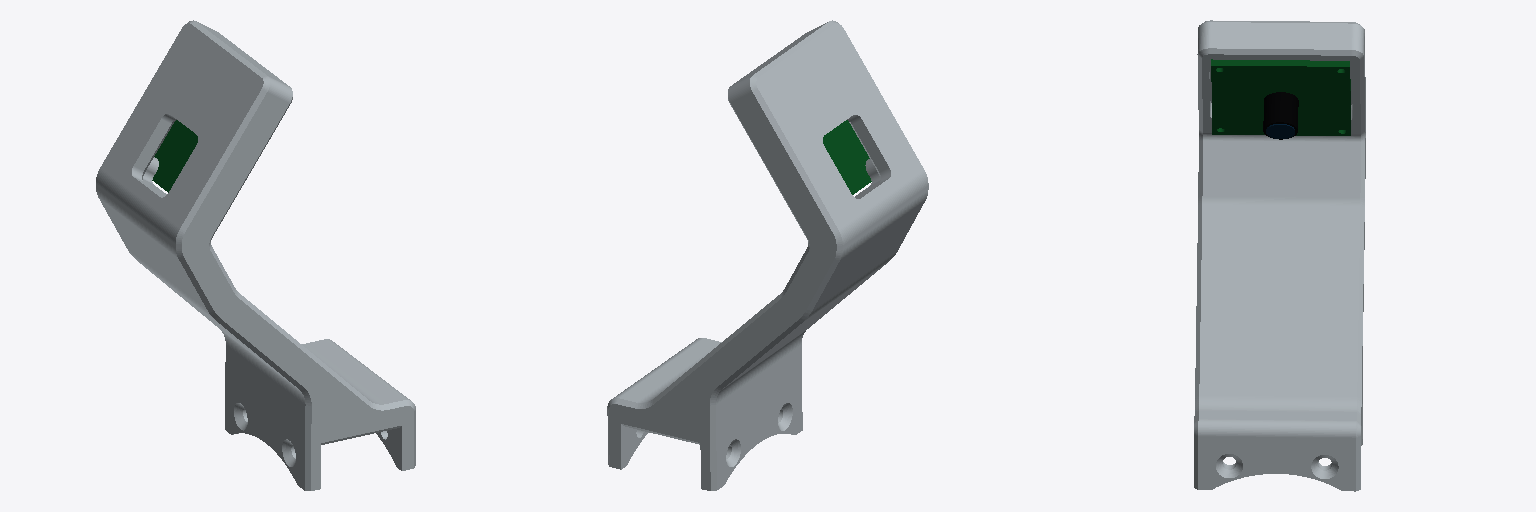
URDF robot description (rebot_wrist_uvc32):
<?xml version="1.0"?>
<!-- Generated by scripts/build-wrist-camera-urdfs.py; see ../README.md. -->
<robot name="rebot_wrist_uvc32">
  <link name="gripper_end" />
  <link name="camera_mount_link">
    <visual>
      <geometry>
        <mesh filename="../meshes/mounts/UVC32_mount.stl" scale="0.001 0.001 0.001" />
      </geometry>
      <material name="camera_mount_link_uvc32_1">
        <color rgba="0.7 0.73 0.75 1" />
      </material>
    </visual>
  </link>
  <joint name="gripper_to_mount" type="fixed">
    <parent link="gripper_end" />
    <child link="camera_mount_link" />
    <origin rpy="1.5827 0.0024 1.5515" xyz="-0.0940591902018 -0.000253569288831 0.0299718222073" />
  </joint>
  <link name="camera_link">
    <visual>
      <geometry>
        <mesh filename="../meshes/uvc32/board.stl" scale="0.001 0.001 0.001" />
      </geometry>
      <material name="camera_link_uvc32_1">
        <color rgba="0.06 0.32 0.14 1" />
      </material>
    </visual>
    <visual>
      <geometry>
        <mesh filename="../meshes/uvc32/lens.stl" scale="0.001 0.001 0.001" />
      </geometry>
      <material name="camera_link_uvc32_2">
        <color rgba="0.035 0.035 0.04 1" />
      </material>
    </visual>
    <visual>
      <geometry>
        <mesh filename="../meshes/uvc32/glass.stl" scale="0.001 0.001 0.001" />
      </geometry>
      <material name="camera_link_uvc32_3">
        <color rgba="0.04 0.14 0.22 1" />
      </material>
    </visual>
  </link>
  <joint name="mount_to_camera" type="fixed">
    <parent link="camera_mount_link" />
    <child link="camera_link" />
    <origin rpy="-0.60145585568 0 3.14159265359" xyz="1.4555e-06 0.07507025725 -0.0274030491" />
  </joint>
  <link name="camera_color_frame" />
  <joint name="camera_color_joint" type="fixed">
    <parent link="camera_link" />
    <child link="camera_color_frame" />
    <origin rpy="0 0 0" xyz="0 0 0.0099" />
  </joint>
  <link name="camera_color_optical_frame" />
  <joint name="camera_color_optical_joint" type="fixed">
    <parent link="camera_color_frame" />
    <child link="camera_color_optical_frame" />
    <origin rpy="0 0 0" xyz="0 0 0" />
  </joint>
</robot>

--- Render facts (derived) ---
3 views of the same robot in one strip: view 1: azimuth 30°, elevation 25°; view 2: azimuth 150°, elevation 25°; view 3: azimuth 270°, elevation 25° (orthographic).
Robot: rebot_wrist_uvc32 — 5 links, 4 joints (4 fixed); root link gripper_end; default pose: all joints at 0.
Visible links, largest first — view 1: camera_mount_link, camera_link; view 2: camera_mount_link, camera_link; view 3: camera_mount_link, camera_link.
Link boxes in pixels (x1=…): camera_mount_link: x1=96, y1=20, x2=415, y2=490; camera_link: x1=152, y1=120, x2=197, y2=192; camera_mount_link: x1=607, y1=20, x2=928, y2=490; camera_link: x1=823, y1=120, x2=871, y2=194; camera_mount_link: x1=1194, y1=20, x2=1365, y2=491; camera_link: x1=1211, y1=59, x2=1350, y2=139.
Size in the robot's own frame: 0.0611 by 0.0397 by 0.1022 metres.
4 mesh visuals loaded from 4 distinct referenced files (4 binary STL).
